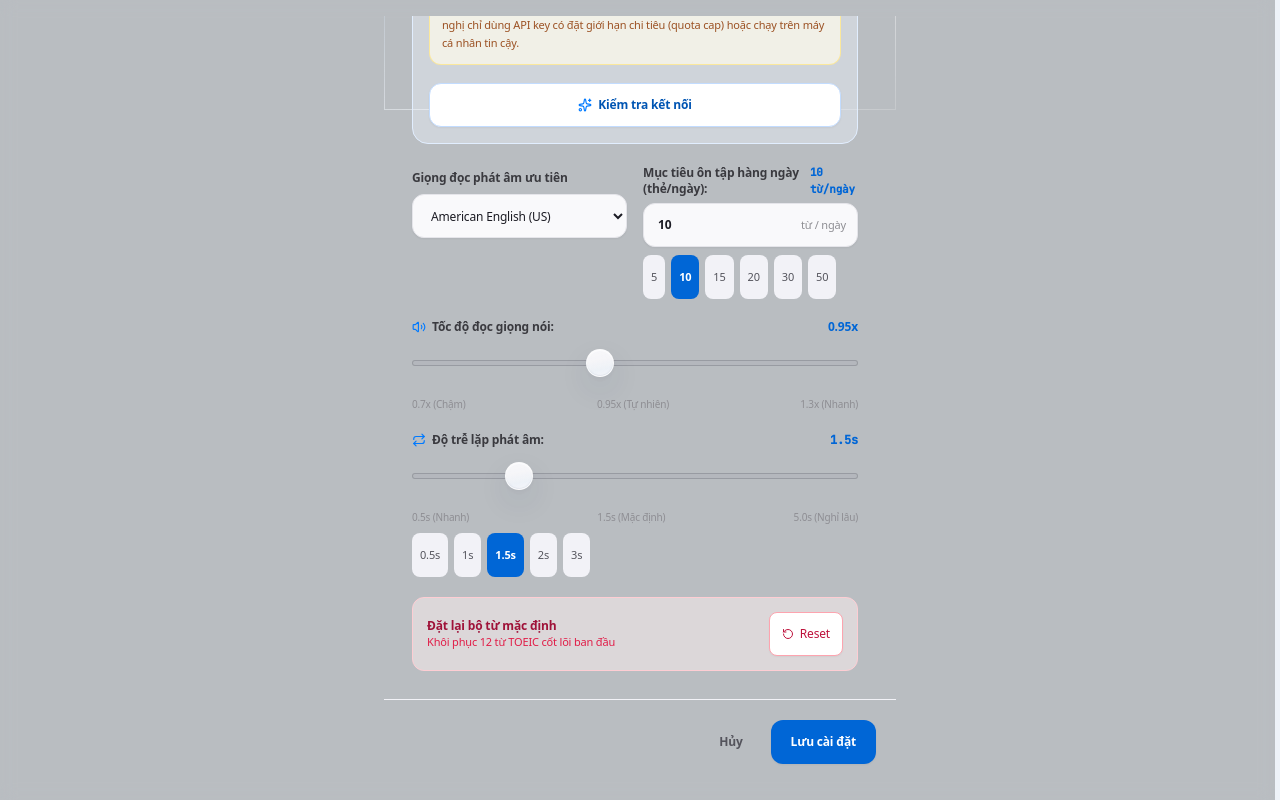
Test case: Audio Keyboard Shortcuts › SettingsModal: displays loopInterval slider and presets
(page scrolled)
Expected: the slider named "Độ trễ lặp phát âm:" is shown, left=412, top=454, right=858, bottom=498
Click the button "2s". click: (543, 555)
box: left=530, top=533, right=557, bottom=577
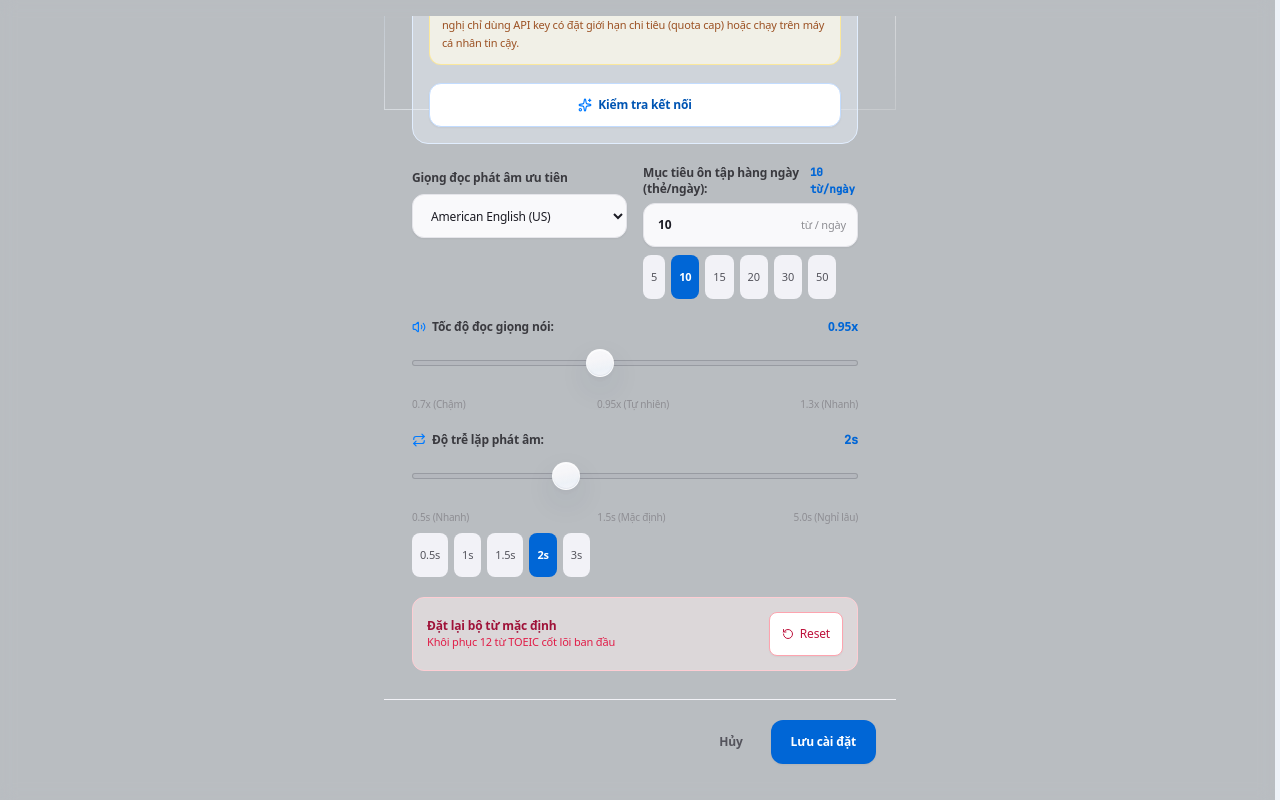
Expected: the slider named "Độ trễ lặp phát âm:" holds "2", left=412, top=454, right=858, bottom=498
